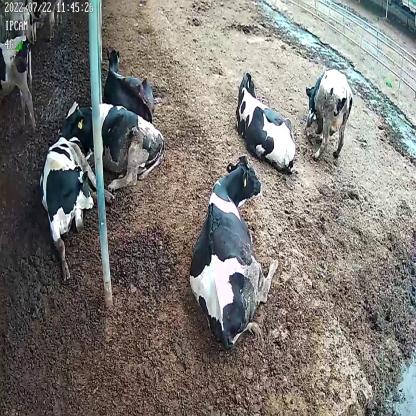cow: (189, 156, 277, 352), (38, 139, 113, 278), (60, 101, 166, 192), (236, 68, 298, 175), (305, 70, 354, 165), (103, 46, 155, 120)
